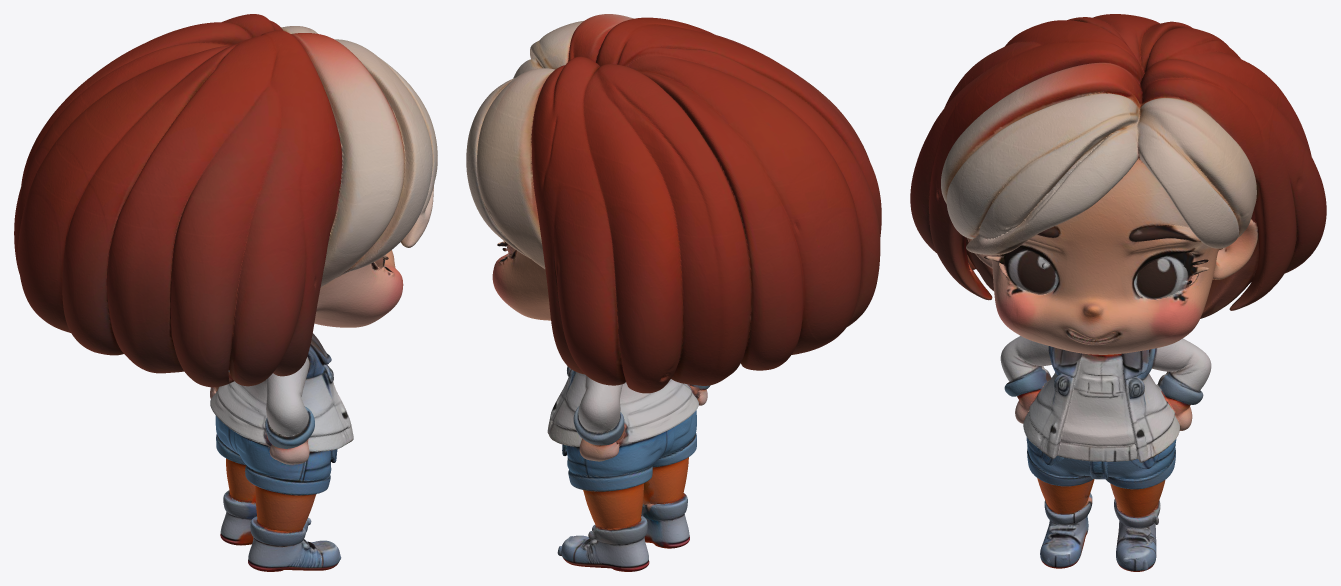
File: anim-doll.glb
The picture shows the model from 3 angles, left to right: view 1: azimuth 30°, elevation 25°; view 2: azimuth 150°, elevation 25°; view 3: azimuth 270°, elevation 25°; orthographic projection. The views are drawn at different scales.
Parts seen in each view (by area): view 1: tripo_node_4bdf16c6-4b54-4be9-90c1-ae11e1666cbe; view 2: tripo_node_4bdf16c6-4b54-4be9-90c1-ae11e1666cbe; view 3: tripo_node_4bdf16c6-4b54-4be9-90c1-ae11e1666cbe.
Boxes of the visible parts, box(x1,y1,x2,y2) form: tripo_node_4bdf16c6-4b54-4be9-90c1-ae11e1666cbe: box(14, 14, 437, 571); tripo_node_4bdf16c6-4b54-4be9-90c1-ae11e1666cbe: box(466, 14, 881, 571); tripo_node_4bdf16c6-4b54-4be9-90c1-ae11e1666cbe: box(910, 14, 1326, 571).
Size of the model in its own units: 0.7211 by 1 by 0.7424.
Materials: 1 (1 with a texture image).
